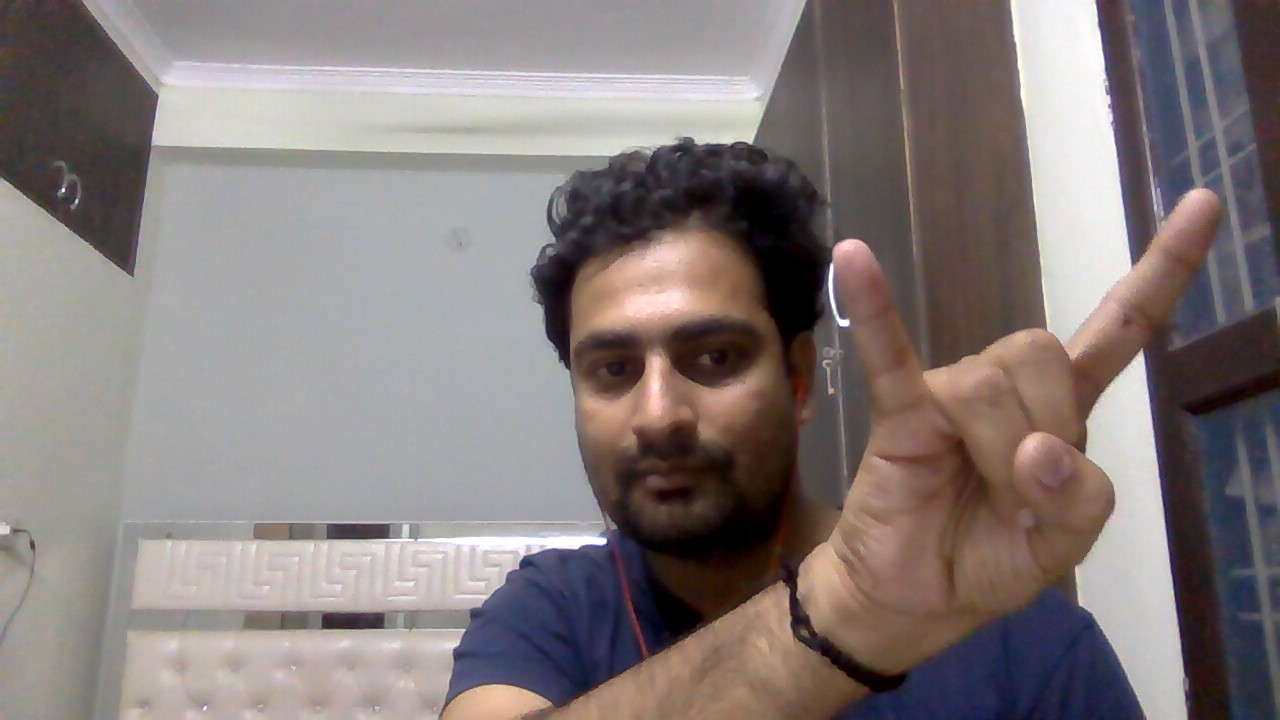Select All: (804, 179, 1231, 629)
